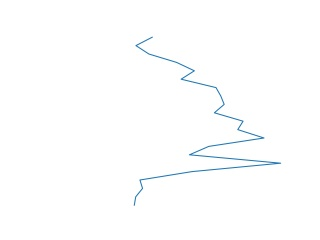floodSwamp: (130, 34, 285, 208)
